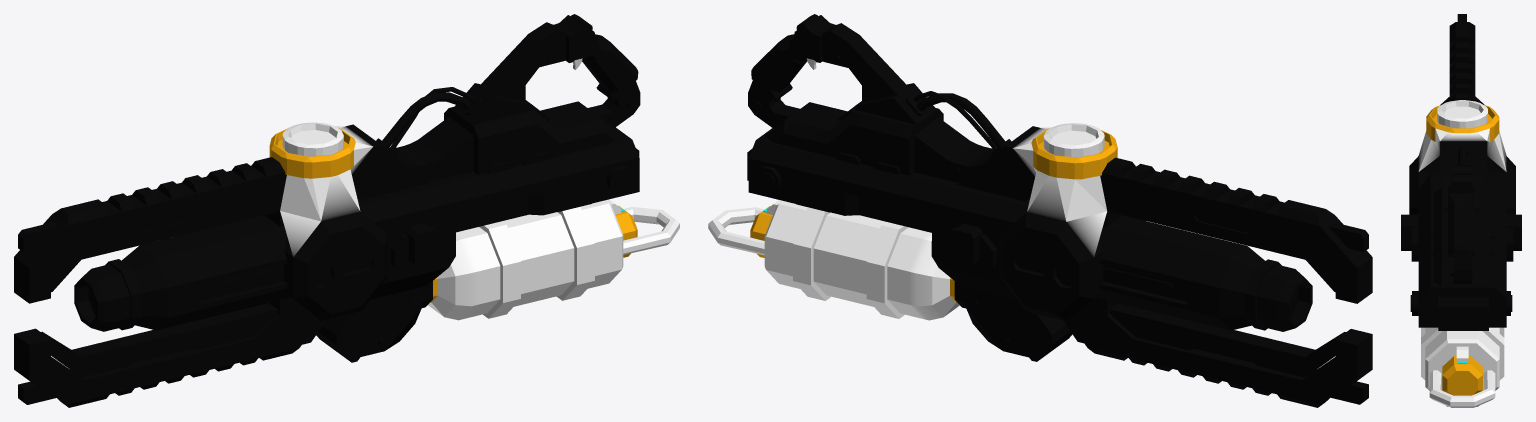
The model's file is m_gun.fbx.
3 renders of one model, left to right at view 1: azimuth 30°, elevation 25°; view 2: azimuth 150°, elevation 25°; view 3: azimuth 270°, elevation 25°, orthographic. The views are drawn at different scales.
Visible parts, largest first — view 1: SM_FT01, SM_FT01_Cylinder; view 2: SM_FT01, SM_FT01_Cylinder; view 3: SM_FT01, SM_FT01_Cylinder.
Boxes of the visible parts, x1,y1,x2,y2 form: SM_FT01: (14,14,640,407); SM_FT01_Cylinder: (428,199,679,320); SM_FT01: (747,14,1372,407); SM_FT01_Cylinder: (708,200,959,320); SM_FT01: (1401,14,1521,330); SM_FT01_Cylinder: (1421,327,1504,407).
Size of the model in its own units: 100 by 40 by 19.08.
